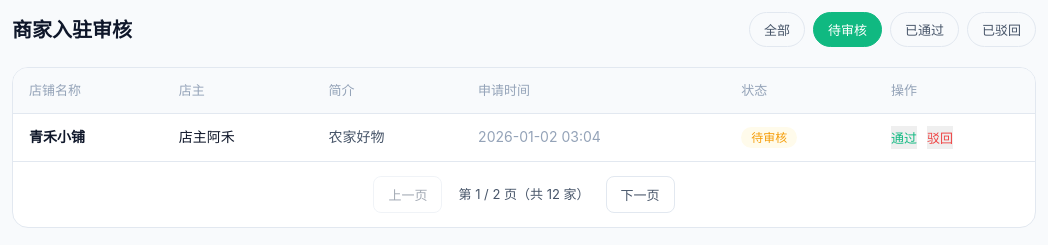
Test case: admin/Merchants 商家入驻审核 › 分页：下一页携带第 2 页重新请求
Expected: the text "第 1 / 2 页（共 12 家）" is shown, x1=458 y1=184 x2=590 y2=205
Expected: the button with class "btn-ghost" showing "上一页" is disabled, x1=374 y1=176 x2=442 y2=213
Step 1. Click the button with class "btn-ghost" showing "下一页" → [640, 194], box x1=606 y1=176 x2=674 y2=213
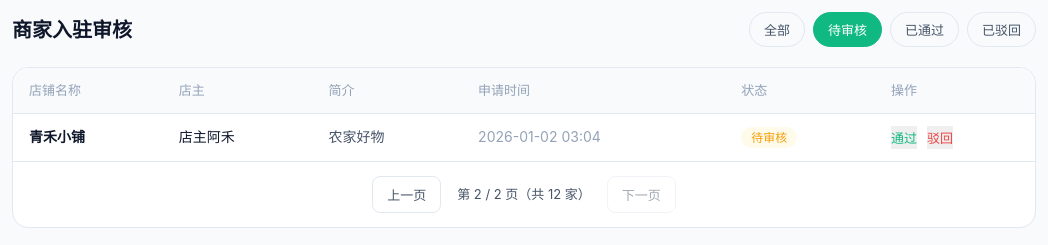
Expected: the text "第 2 / 2 页（共 12 家）" is shown, x1=457 y1=184 x2=591 y2=205
